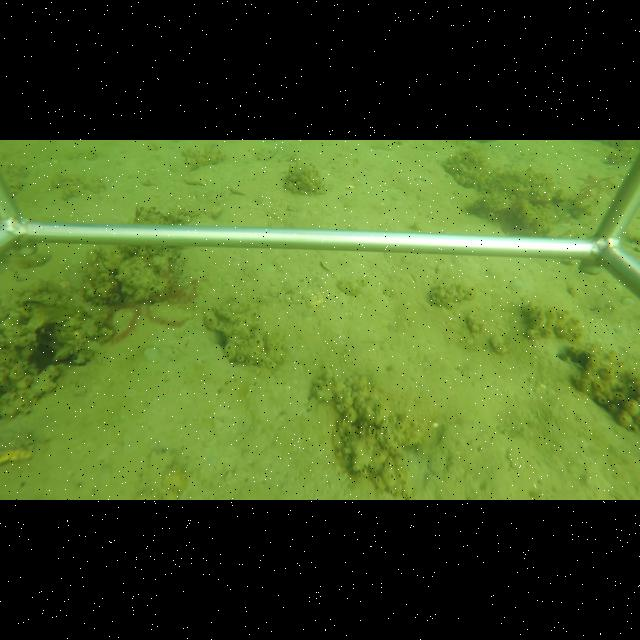Oyster-Closed: (50, 344, 77, 365)
